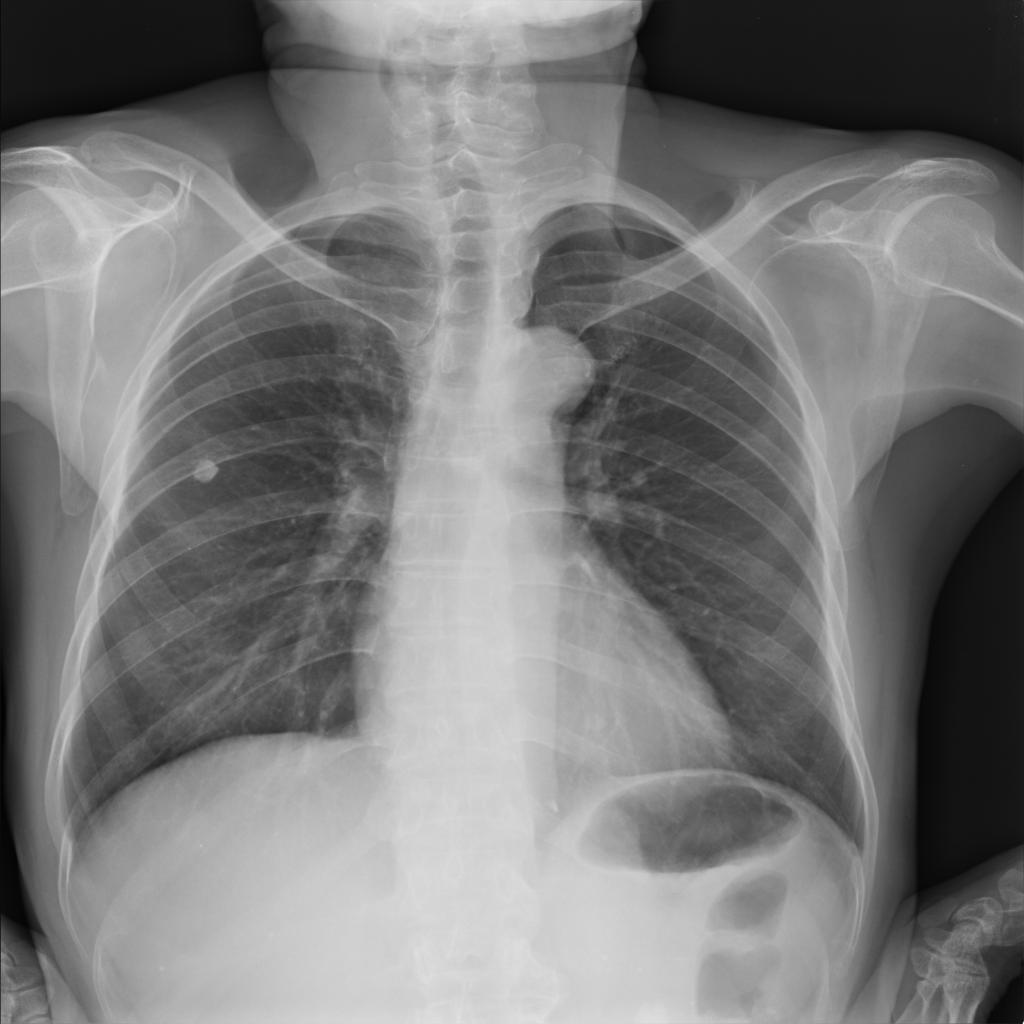Nodule: (193, 454, 219, 486)
